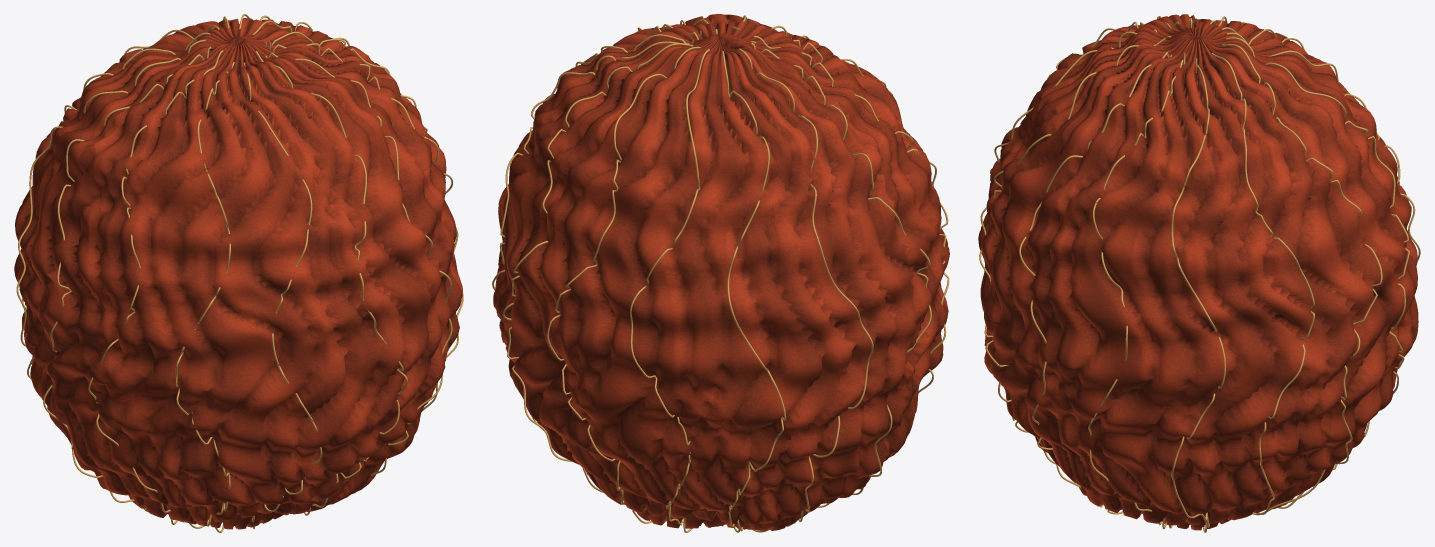
The model's file is runtime-core.glb.
3 renders of one model, left to right at view 1: azimuth 30°, elevation 25°; view 2: azimuth 150°, elevation 25°; view 3: azimuth 270°, elevation 25°, orthographic.
Parts seen in each view (by area): view 1: Runtime sculpted cortex, Runtime conductive filaments; view 2: Runtime sculpted cortex, Runtime conductive filaments; view 3: Runtime sculpted cortex, Runtime conductive filaments.
Boxes of the visible parts, x1,y1,x2,y2 form: Runtime sculpted cortex: (14,18,462,529); Runtime conductive filaments: (16,14,463,532); Runtime sculpted cortex: (493,14,949,530); Runtime conductive filaments: (492,15,949,532); Runtime sculpted cortex: (978,14,1418,530); Runtime conductive filaments: (979,14,1420,532).
Size of the model in its own units: 1.53 by 1.75 by 1.47.
2 materials, 1 textured.
